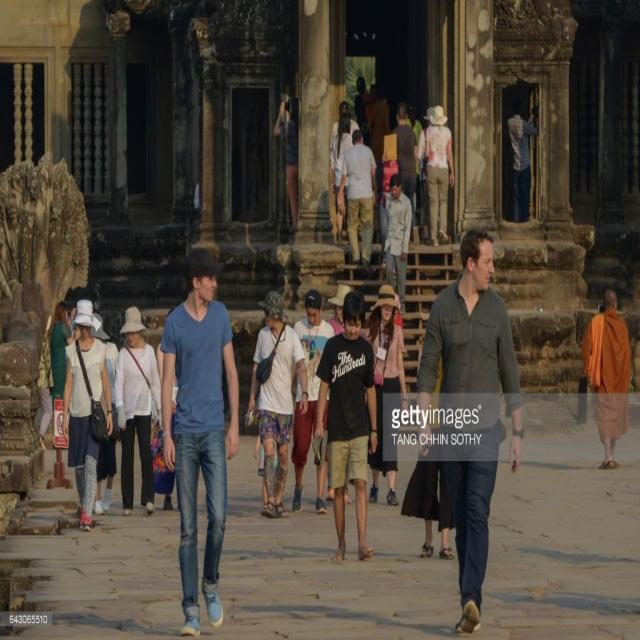body: (40, 456, 640, 639), (412, 226, 527, 638), (160, 244, 242, 639), (227, 232, 462, 320), (309, 289, 380, 564), (241, 288, 309, 522), (399, 330, 458, 560), (313, 72, 396, 233), (59, 298, 114, 534), (112, 304, 163, 519), (574, 284, 632, 472), (290, 288, 336, 515), (364, 283, 409, 508), (362, 290, 407, 474), (324, 281, 355, 506), (336, 126, 378, 280), (89, 311, 120, 517), (423, 102, 456, 248), (380, 171, 412, 316), (156, 310, 178, 515), (506, 96, 540, 223), (390, 102, 419, 248), (46, 298, 82, 415), (272, 95, 299, 246), (34, 310, 54, 456), (416, 106, 436, 244), (404, 97, 424, 213), (253, 428, 279, 517), (328, 98, 361, 152)
